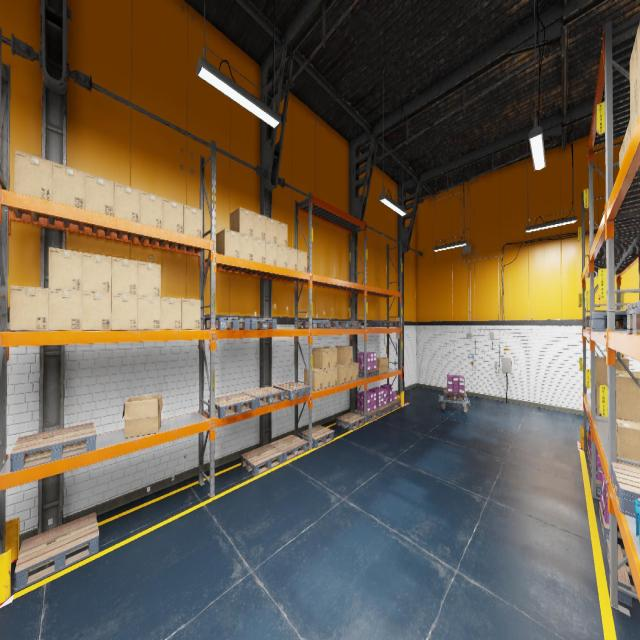box: (14, 149, 52, 201), (122, 395, 162, 438), (10, 286, 48, 330), (52, 162, 85, 209), (48, 247, 82, 291), (48, 288, 82, 330), (85, 172, 114, 216), (82, 252, 111, 293), (616, 419, 640, 468), (616, 373, 640, 422), (82, 292, 111, 330), (114, 182, 140, 222), (111, 256, 138, 294), (595, 356, 629, 385), (111, 293, 137, 330), (140, 190, 163, 228), (138, 261, 160, 296), (138, 296, 160, 330), (163, 197, 183, 233), (230, 207, 253, 236), (216, 229, 239, 258), (181, 298, 201, 330), (161, 297, 181, 329), (184, 205, 202, 238), (630, 34, 637, 118), (304, 368, 322, 390), (595, 384, 606, 417), (312, 348, 330, 368), (253, 212, 265, 240), (240, 233, 252, 261), (630, 97, 638, 138), (265, 216, 277, 243), (321, 348, 337, 368), (265, 240, 277, 266), (253, 237, 265, 263), (636, 21, 640, 95), (336, 346, 352, 364), (277, 221, 287, 247), (277, 244, 287, 268), (374, 358, 389, 373), (624, 119, 630, 155), (288, 247, 297, 270), (341, 364, 352, 382), (298, 249, 306, 272), (337, 364, 346, 384), (323, 368, 330, 388), (330, 367, 337, 386), (620, 138, 624, 170), (352, 362, 358, 381), (616, 370, 640, 374), (638, 89, 640, 118)
pallets: (14, 512, 99, 591), (10, 422, 96, 472), (607, 540, 637, 608), (611, 462, 640, 518), (241, 444, 283, 476), (208, 393, 256, 418), (269, 434, 307, 462), (599, 502, 622, 543), (242, 386, 284, 408), (300, 425, 334, 448), (591, 313, 627, 332), (273, 382, 310, 400), (205, 318, 250, 330), (336, 412, 365, 430), (625, 300, 640, 334), (354, 408, 381, 422), (443, 389, 467, 402), (250, 318, 276, 329), (604, 316, 627, 328), (298, 320, 330, 328), (317, 321, 345, 328), (376, 404, 391, 416), (359, 369, 379, 378), (386, 399, 401, 410), (366, 321, 391, 326), (346, 321, 361, 328), (596, 479, 602, 496), (387, 321, 400, 326), (587, 443, 590, 462), (585, 316, 590, 326), (589, 453, 591, 475), (615, 321, 619, 328), (583, 317, 585, 327)
